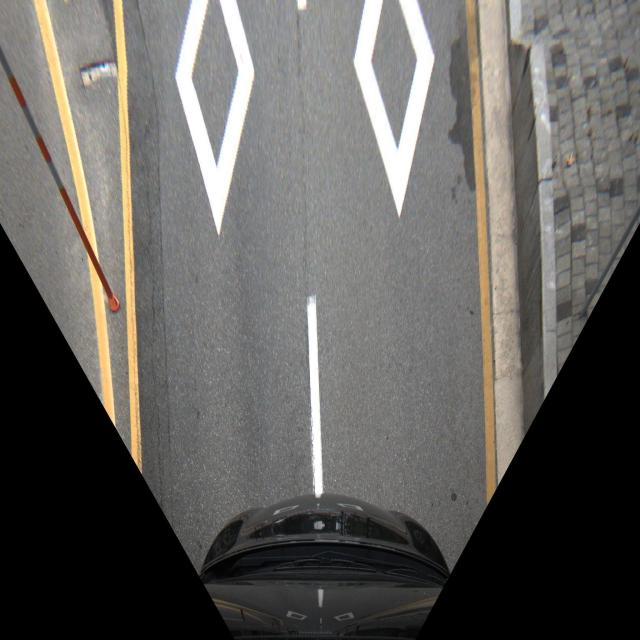diamond: (122, 0, 307, 278)
